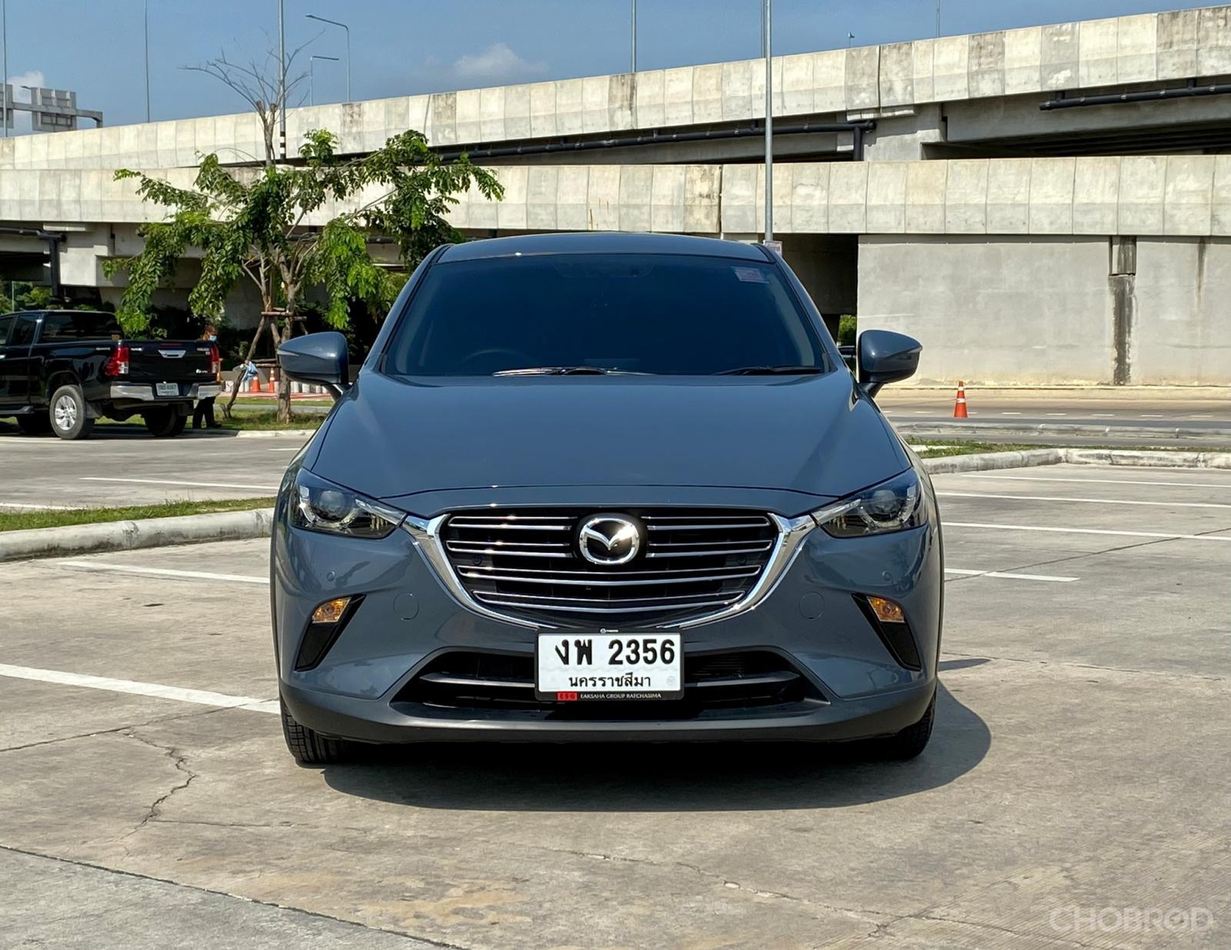license-plate: (533, 629, 684, 699)
